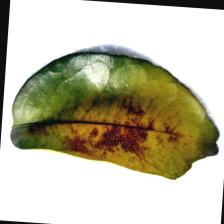black spot: (47, 81, 188, 156)
